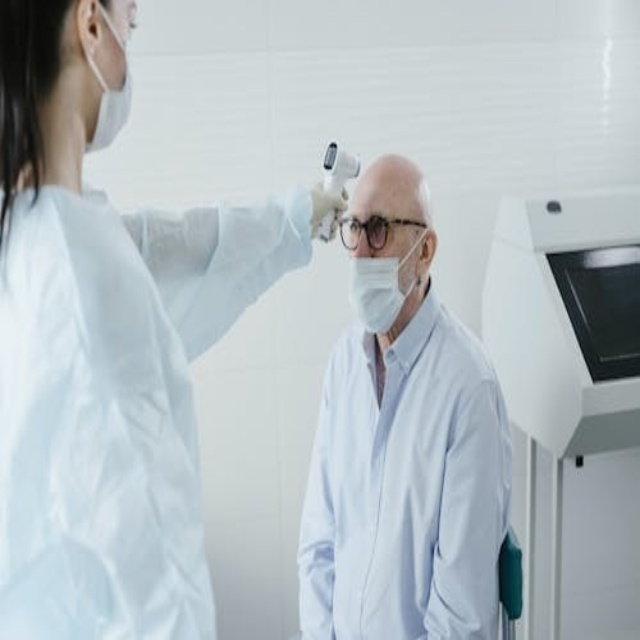Gafas: (339, 215, 425, 251)
Guantes: (307, 180, 350, 241)
Mascara: (348, 230, 423, 335), (83, 6, 134, 153)
